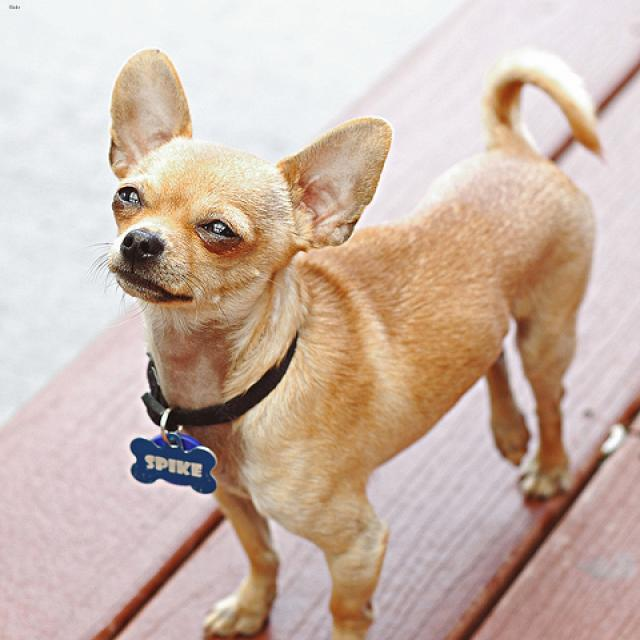dog-chihuahua: (75, 36, 615, 637)
